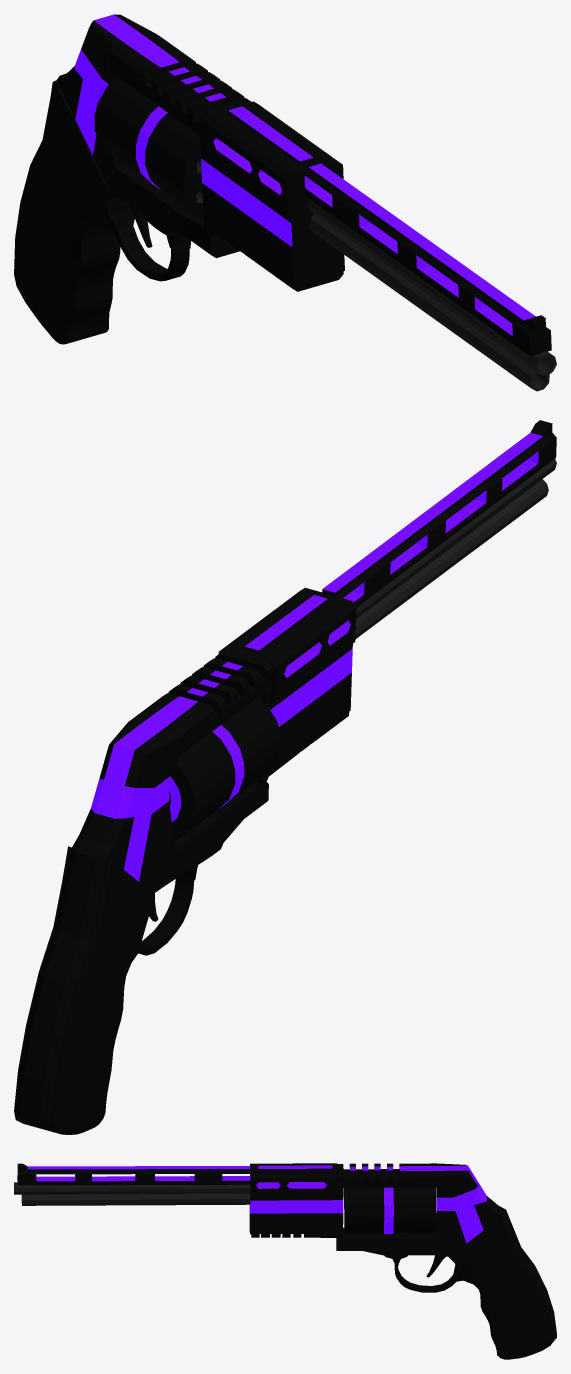
The picture shows the model from 3 angles, top to bottom: view 1: azimuth 30°, elevation 25°; view 2: azimuth 150°, elevation 25°; view 3: azimuth 270°, elevation 25°; orthographic projection. The views are drawn at different scales.
Parts seen in each view (by area): view 1: Gun_5, Round_6, Barrel_8; view 2: Gun_5, Round_6, Barrel_8; view 3: Gun_5, Barrel_8, Round_6.
Boxes of the visible parts, x1,y1,x2,y2 form: Gun_5: (14,14,551,356); Round_6: (94,77,203,218); Barrel_8: (308,199,556,391); Gun_5: (14,420,556,1134); Round_6: (169,697,281,840); Barrel_8: (355,459,556,638); Gun_5: (17,1163,556,1359); Barrel_8: (14,1182,250,1205); Round_6: (344,1187,436,1233).
Size of the model in its own units: 0.2145 by 0.8351 by 2.18.
